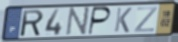4: (43, 8, 65, 37)
K: (113, 7, 133, 34)
N: (64, 6, 91, 37)
P: (87, 6, 113, 36)
R: (20, 9, 45, 38)
Z: (133, 6, 159, 34)
